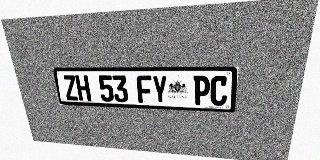3: (112, 75, 128, 102)
5: (98, 75, 114, 102)
C: (210, 76, 228, 106)
F: (136, 75, 152, 103)
H: (75, 75, 91, 101)
P: (193, 76, 210, 105)
Y: (152, 75, 168, 104)
Z: (62, 75, 79, 101)
